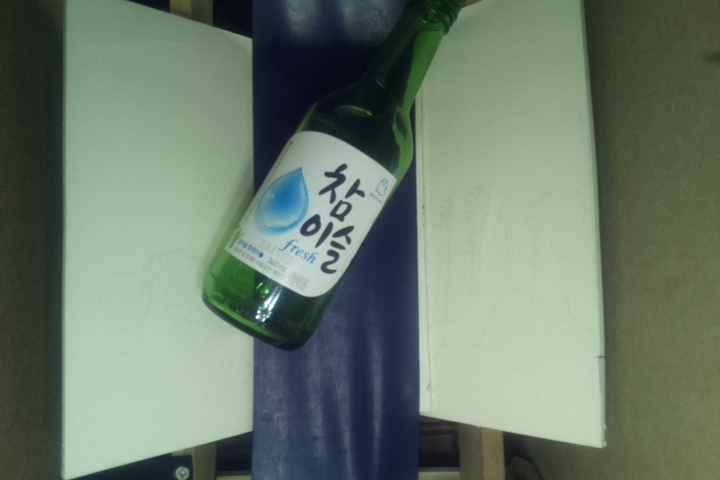soju: (202, 1, 464, 352)
